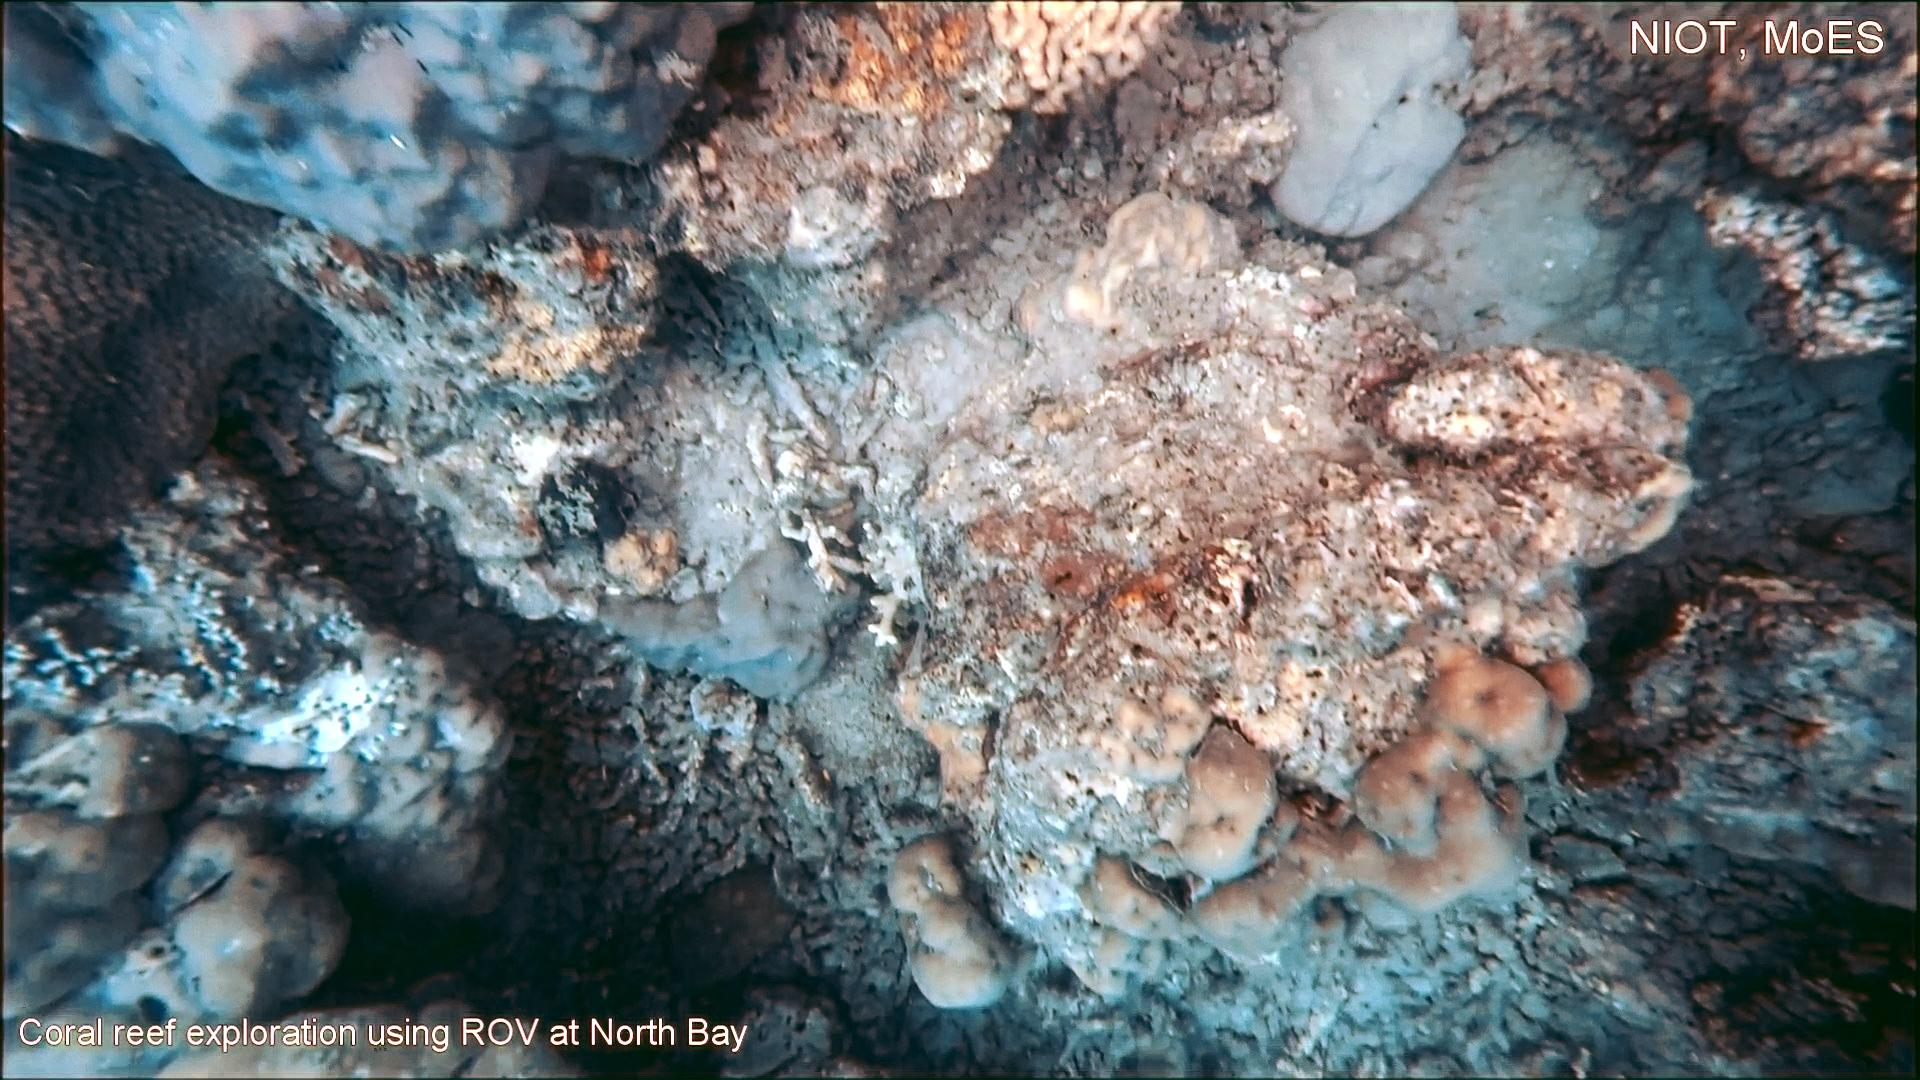Lobophyllia: (976, 0, 1192, 127)
